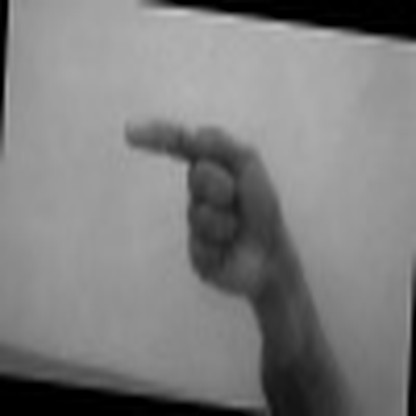g: (120, 110, 285, 296)
